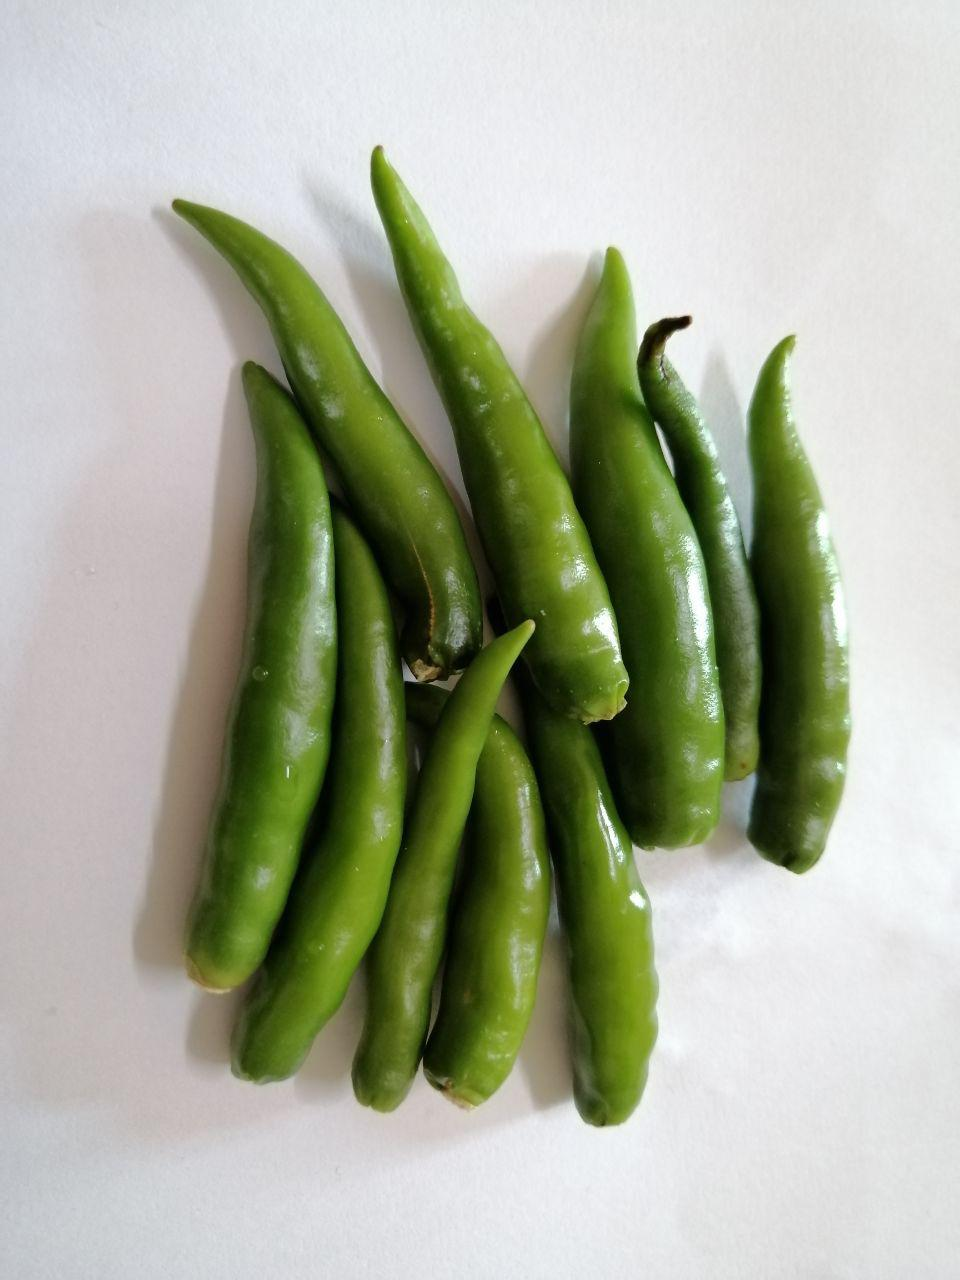lada hijau: (335, 129, 643, 735), (161, 190, 479, 682), (549, 229, 747, 857), (165, 357, 347, 1015), (224, 521, 410, 1098), (353, 612, 557, 1108), (741, 296, 904, 884), (631, 312, 775, 794), (526, 710, 677, 1145), (416, 706, 555, 1137)
